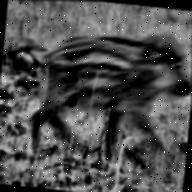boar: (25, 19, 192, 166)
